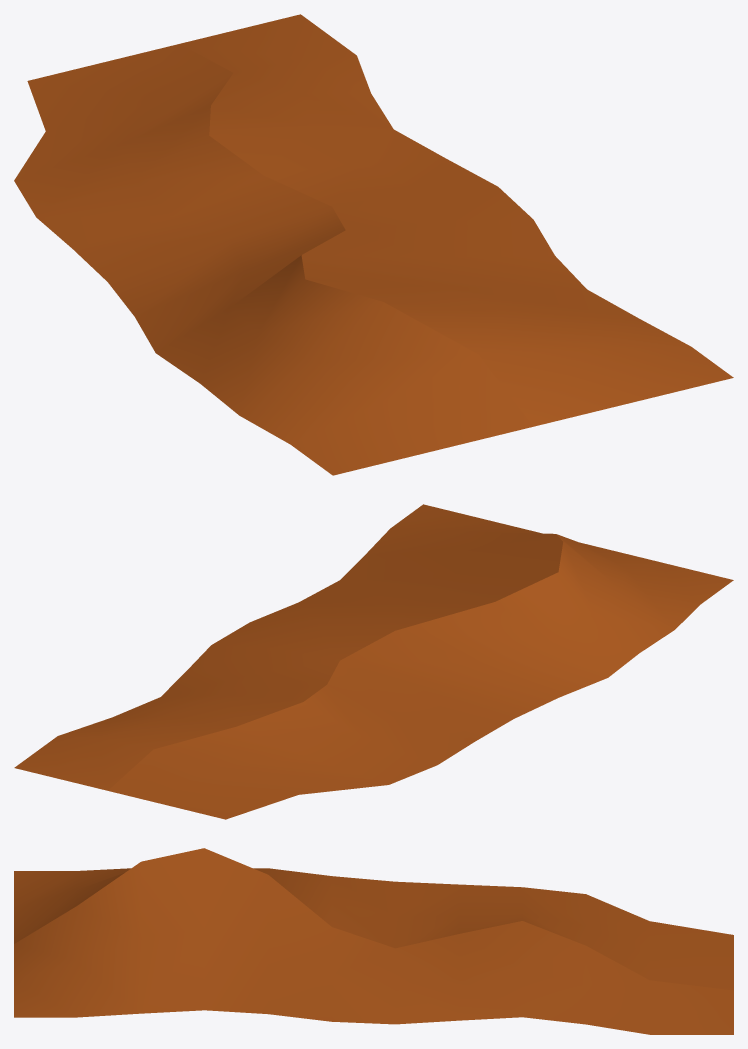
Rendered from SM_Dune_01.fbx.
3 renders of one model, top to bottom at view 1: azimuth 30°, elevation 25°; view 2: azimuth 150°, elevation 25°; view 3: azimuth 270°, elevation 25°, orthographic. The views are drawn at different scales.
Visible parts, largest first — view 1: SM_Dune_01; view 2: SM_Dune_01; view 3: SM_Dune_01.
Boxes of the visible parts, box(x1,y1,x2,y2) form: SM_Dune_01: box(14, 14, 733, 475); SM_Dune_01: box(14, 504, 733, 819); SM_Dune_01: box(14, 848, 733, 1034).
Bounding box in the file's own units: 680 × 113 × 1239.
